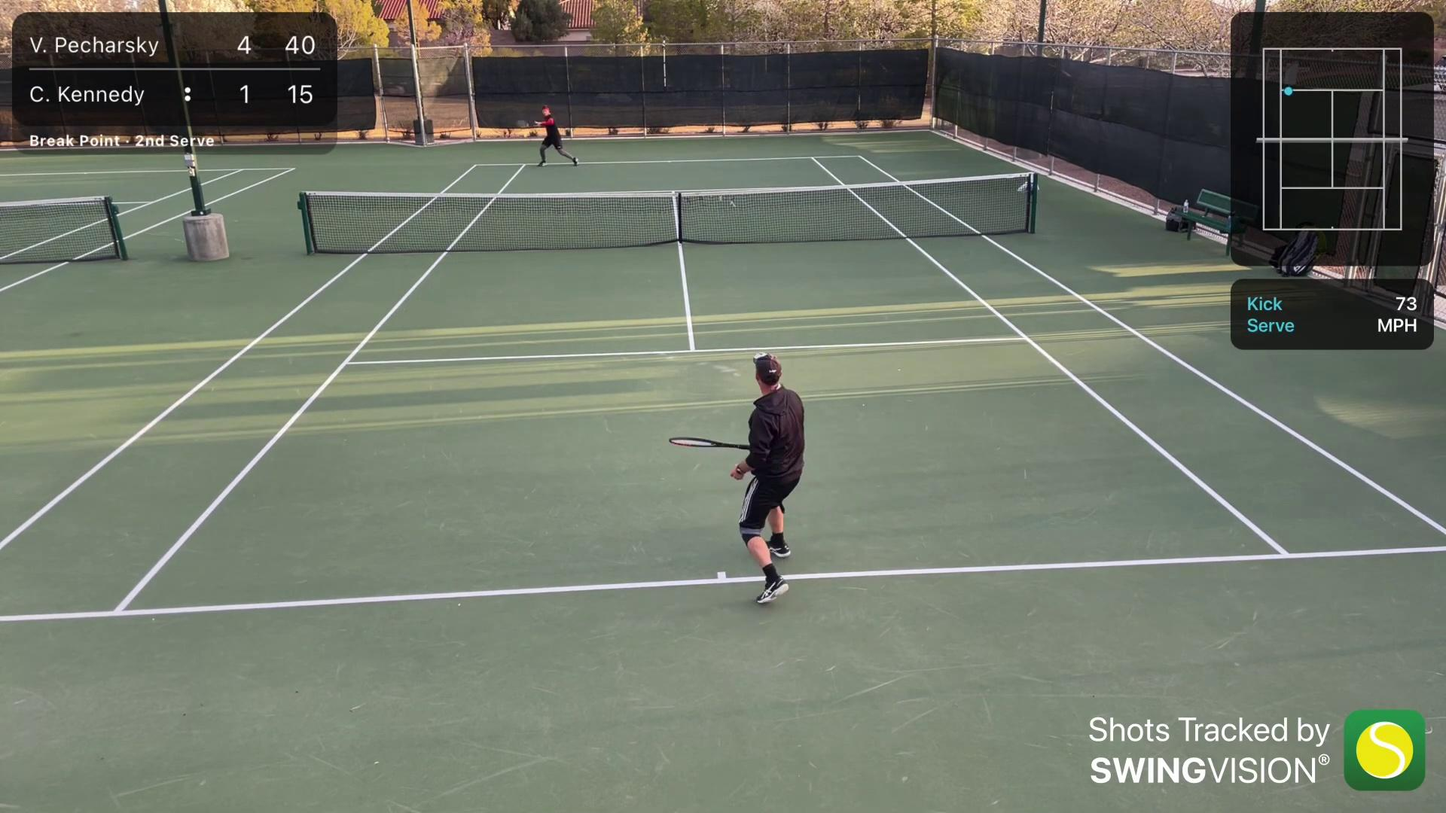ball: (523, 133, 529, 140)
